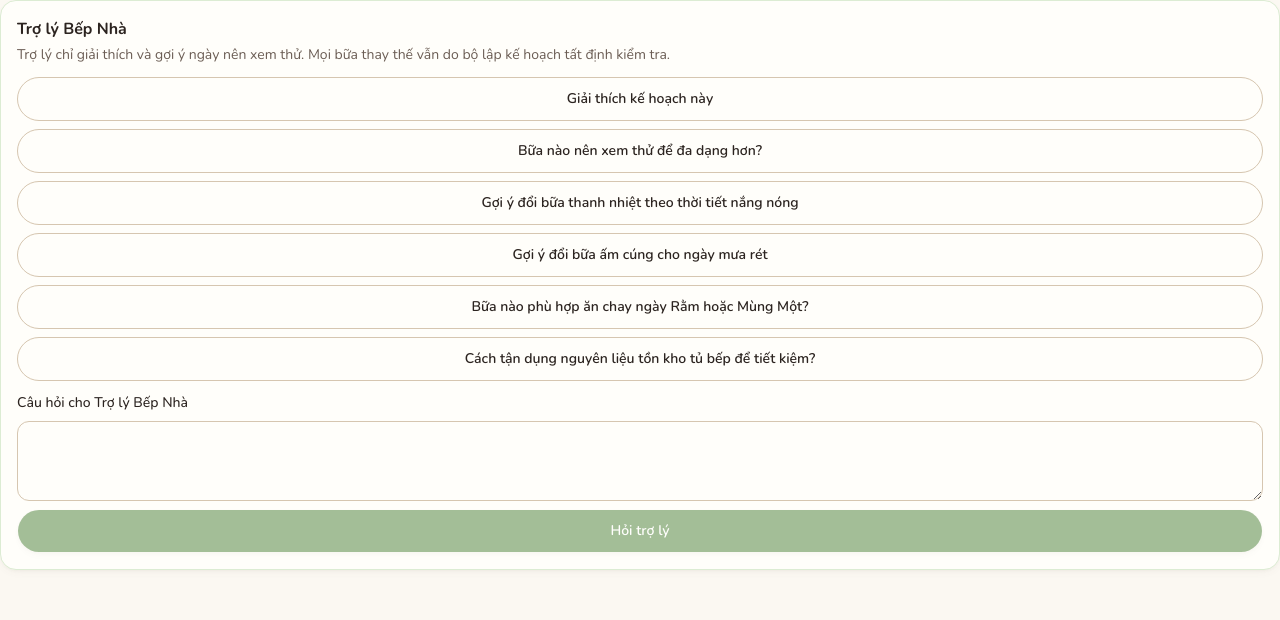
AssistantCard › shows bounded error state for ASSISTANT_UNAVAILABLE
Click the button "Giải thích kế hoạch này".
click(640, 99)  # box [17,77,1263,121]
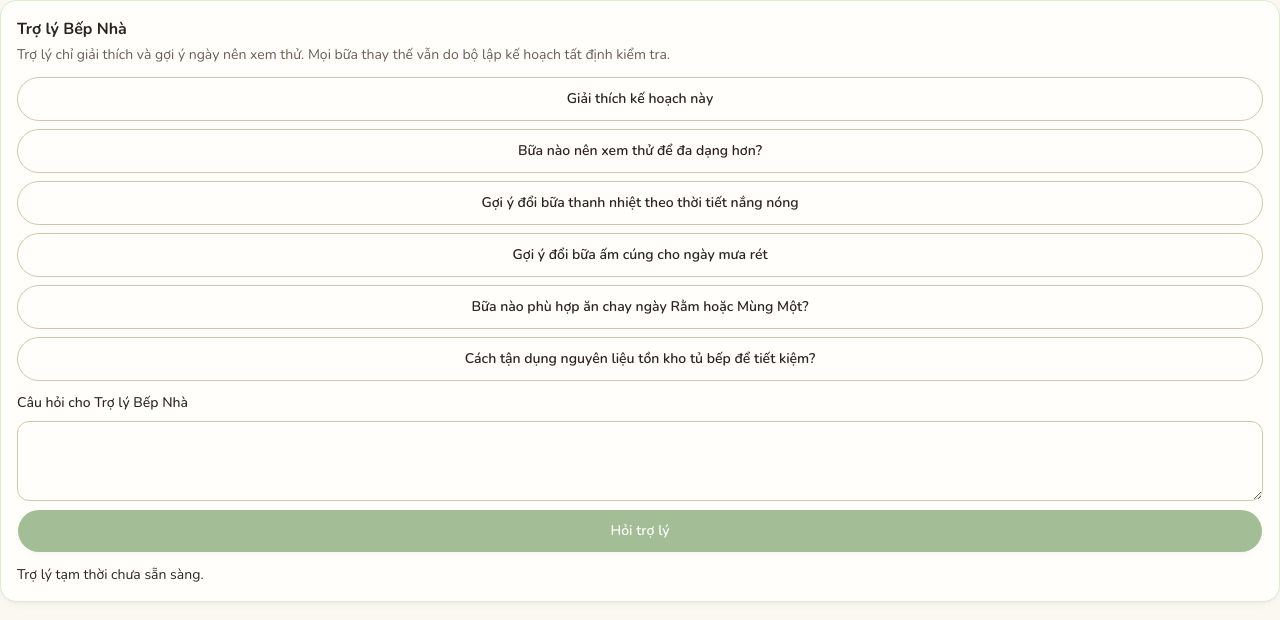
Check: the message reads "Trợ lý tạm thời chưa sẵn sàng.", box [17,565,204,584]
